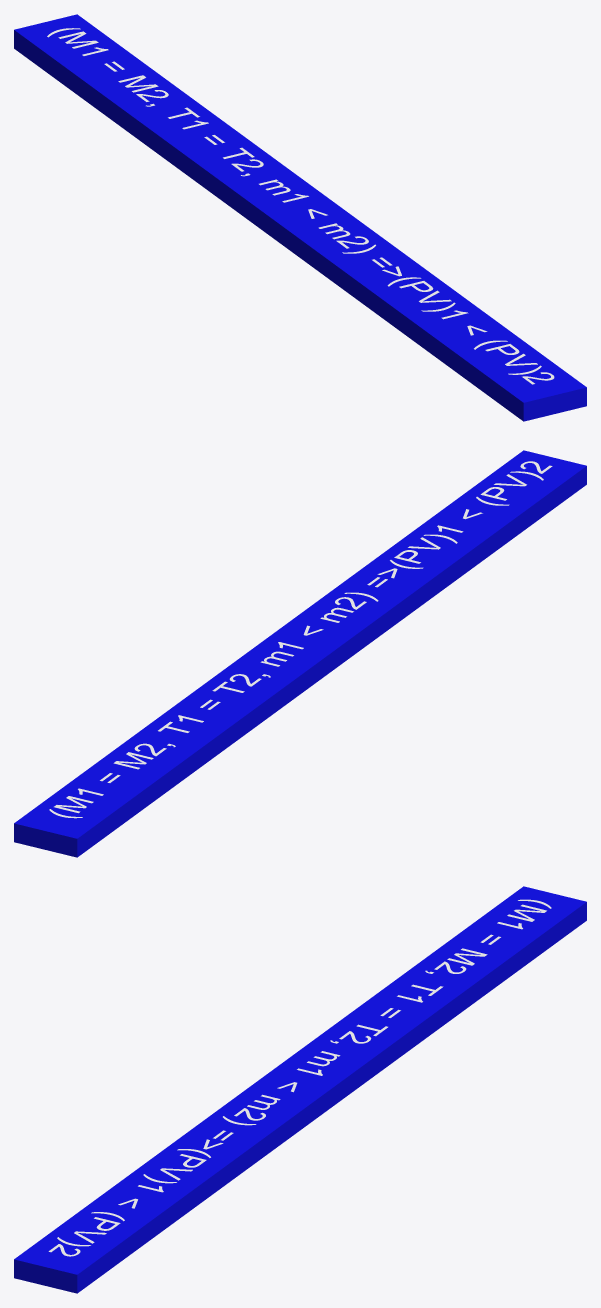
The model's file is massa21.FBX.
3 views of the same model, one above another, from view 1: azimuth 30°, elevation 25°; view 2: azimuth 150°, elevation 25°; view 3: azimuth 330°, elevation 25° (orthographic).
Parts seen in each view (by area): view 1: Box001, Text002; view 2: Box001, Text002; view 3: Box001, Text002.
Boxes of the visible parts, x1=… form: Box001: x1=14, y1=14, x2=586, y2=421; Text002: x1=47, y1=28, x2=554, y2=384; Box001: x1=14, y1=450, x2=586, y2=857; Text002: x1=49, y1=461, x2=552, y2=818; Box001: x1=14, y1=886, x2=586, y2=1293; Text002: x1=48, y1=899, x2=551, y2=1256.
Bounding box in the file's own units: 24.39 × 8.28 × 340.
